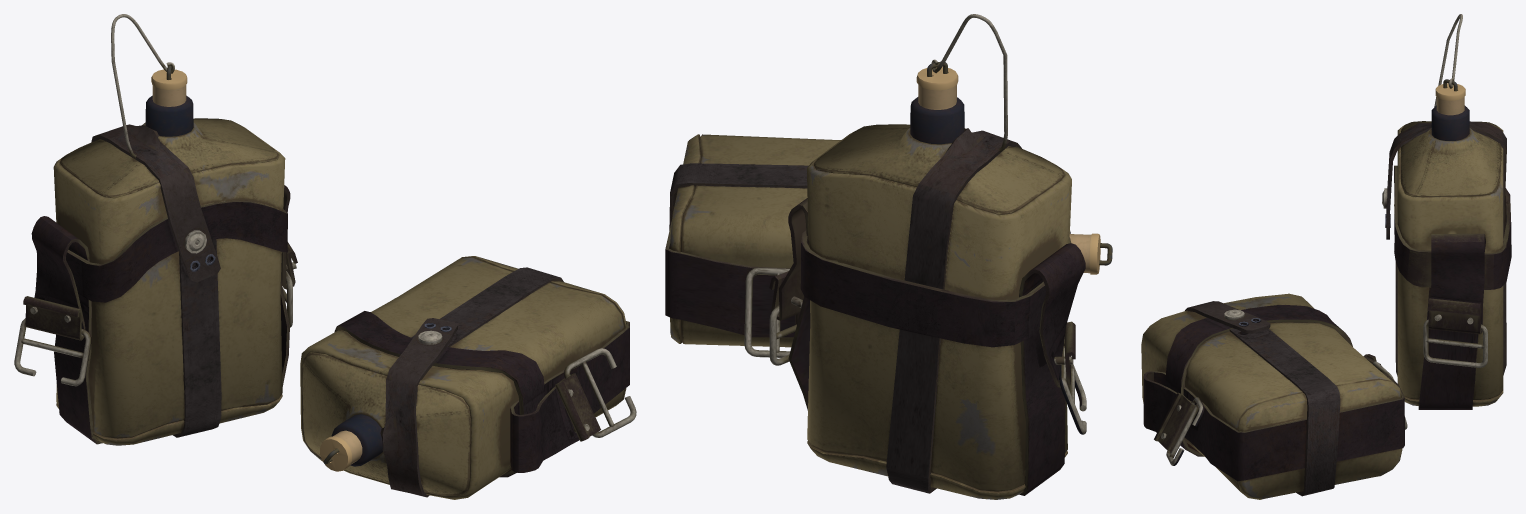
The picture shows the model from 3 angles, left to right: view 1: azimuth 30°, elevation 25°; view 2: azimuth 150°, elevation 25°; view 3: azimuth 270°, elevation 25°; orthographic projection. The views are drawn at different scales.
Parts seen in each view (by area): view 1: Bottle_Low_Bottle_0, Bottle_Low001_bottle_02_0, Straps_Low_Straps_0, Bottle_Low001_Straps_02_0, Straps_Low_Bottle_0, Bottle_Low_Straps_0; view 2: Bottle_Low_Bottle_0, Straps_Low_Straps_0, Bottle_Low001_bottle_02_0, Bottle_Low001_Straps_02_0, Straps_Low_Bottle_0, Bottle_Low_Straps_0; view 3: Bottle_Low001_bottle_02_0, Bottle_Low001_Straps_02_0, Bottle_Low_Bottle_0, Straps_Low_Straps_0, Straps_Low_Bottle_0, Bottle_Low_Straps_0.
Part boxes in pixels (x1=…): Bottle_Low_Bottle_0: x1=53, y1=14, x2=285, y2=445; Bottle_Low001_bottle_02_0: x1=300, y1=256, x2=636, y2=499; Straps_Low_Straps_0: x1=31, y1=85, x2=287, y2=443; Bottle_Low001_Straps_02_0: x1=331, y1=267, x2=629, y2=496; Straps_Low_Bottle_0: x1=14, y1=69, x2=297, y2=444; Bottle_Low_Straps_0: x1=145, y1=95, x2=215, y2=271; Bottle_Low_Bottle_0: x1=807, y1=14, x2=1071, y2=499; Straps_Low_Straps_0: x1=791, y1=85, x2=1085, y2=495; Bottle_Low001_bottle_02_0: x1=665, y1=134, x2=1112, y2=357; Bottle_Low001_Straps_02_0: x1=665, y1=163, x2=1091, y2=337; Straps_Low_Bottle_0: x1=769, y1=66, x2=1086, y2=495; Bottle_Low_Straps_0: x1=910, y1=97, x2=964, y2=144; Bottle_Low001_bottle_02_0: x1=1141, y1=293, x2=1407, y2=499; Bottle_Low001_Straps_02_0: x1=1143, y1=305, x2=1404, y2=496; Bottle_Low_Bottle_0: x1=1382, y1=14, x2=1503, y2=406; Straps_Low_Straps_0: x1=1386, y1=97, x2=1511, y2=409; Straps_Low_Bottle_0: x1=1386, y1=83, x2=1510, y2=408; Bottle_Low_Straps_0: x1=1385, y1=105, x2=1469, y2=227.
Size of the model in its own units: 534 by 432 by 421.
Materials: 4 (4 with a texture image).
